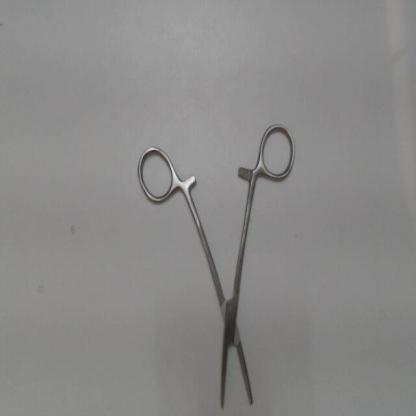Mayo Needle Holder: (133, 117, 301, 413)
